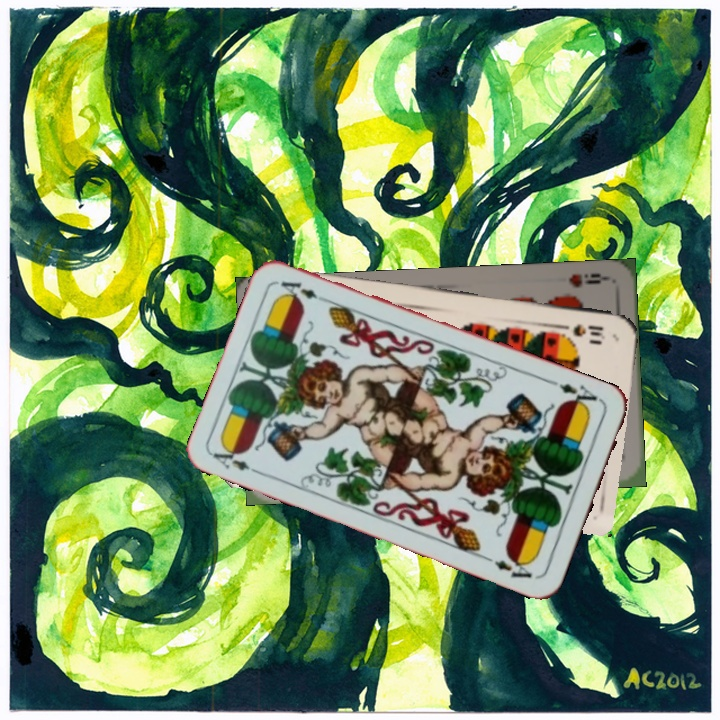EA: (209, 441, 266, 478), (555, 379, 605, 412)
H9: (565, 269, 610, 290)
S10: (555, 320, 607, 342)
